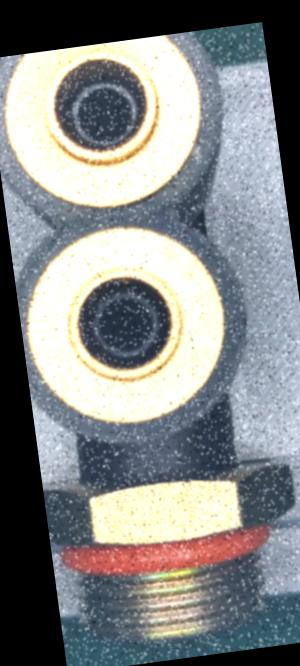joint line: (145, 442, 157, 467)
white mark: (145, 469, 157, 484)
